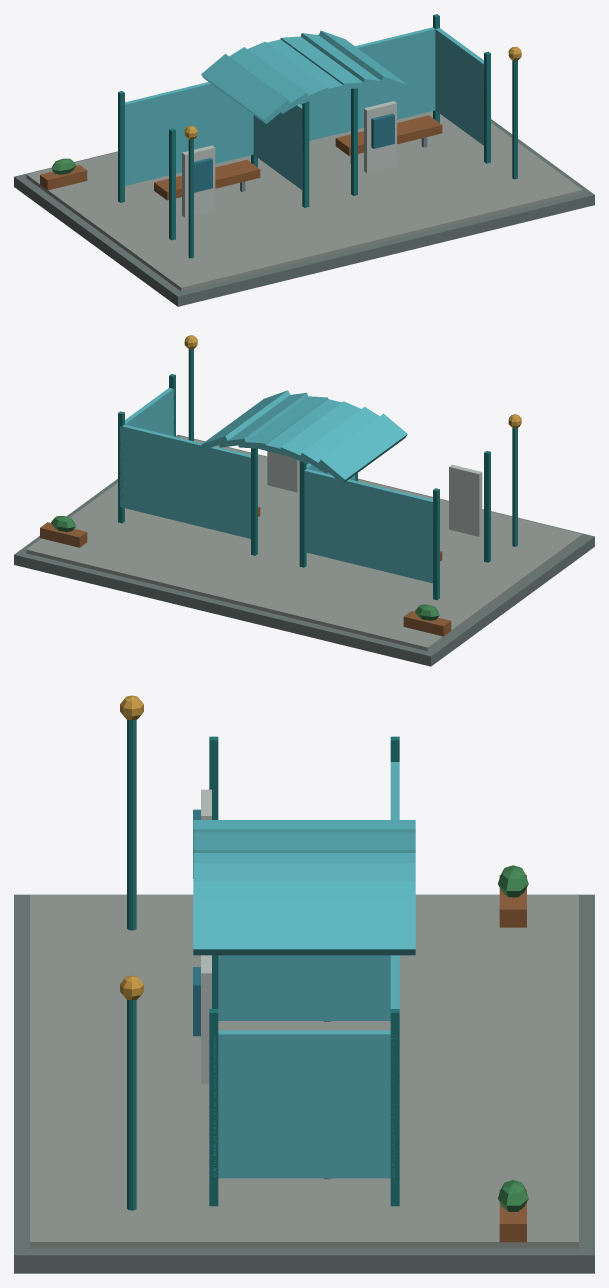
Rendered from bus_stop_lv2.glb.
3 renders of one model, top to bottom at view 1: azimuth 30°, elevation 25°; view 2: azimuth 150°, elevation 25°; view 3: azimuth 270°, elevation 25°, orthographic. The views are drawn at different scales.
Visible parts, largest first — view 1: rough, glossy; view 2: rough, glossy; view 3: rough, glossy.
Part boxes in pixels (left/top/right/bottom): rough: left=14, top=14, right=594, bottom=306; glossy: left=125, top=27, right=484, bottom=192; rough: left=14, top=335, right=594, bottom=666; glossy: left=120, top=388, right=434, bottom=583; rough: left=14, top=695, right=594, bottom=1273; glossy: left=193, top=762, right=415, bottom=1178.
Bounding box in the file's own units: 9.4 × 3.12 × 6.4.
